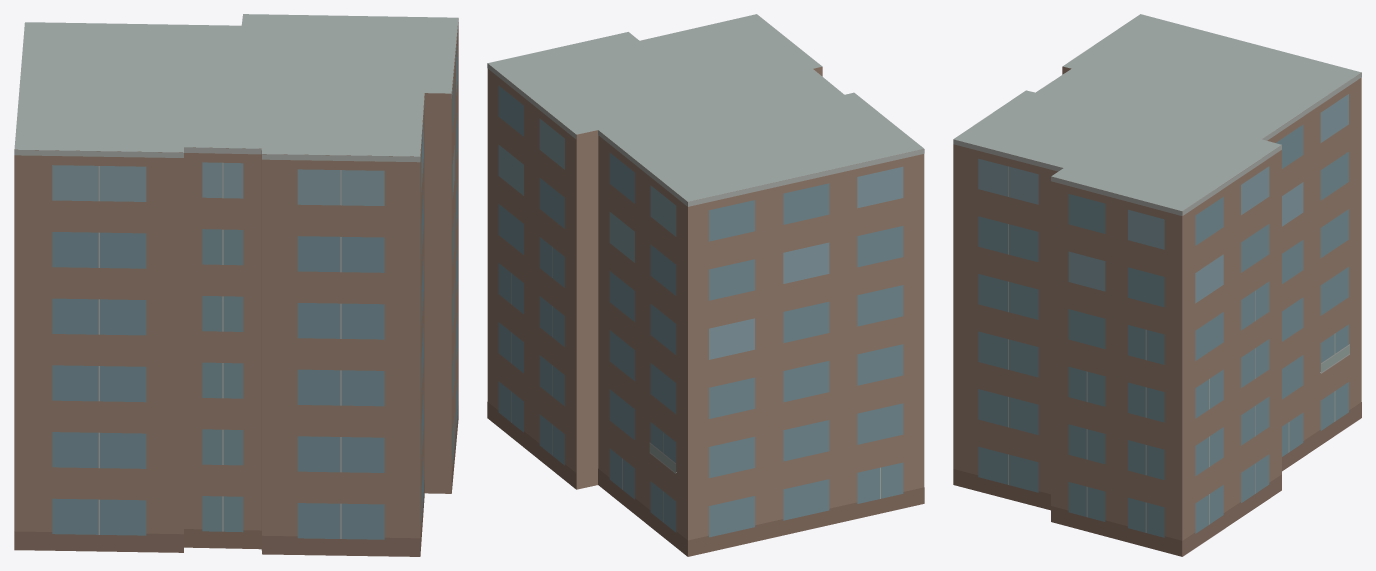
File: survey-upis-32985790.glb
3 views of the same model, side by side, from view 1: azimuth 30°, elevation 25°; view 2: azimuth 150°, elevation 25°; view 3: azimuth 270°, elevation 25° (orthographic). The views are drawn at different scales.
Parts seen in each view (by area): view 1: survey-upis-32985790.tmp; view 2: survey-upis-32985790.tmp; view 3: survey-upis-32985790.tmp.
Part boxes in pixels (x1,y1,x2,y2): survey-upis-32985790.tmp: (14, 14, 458, 556); survey-upis-32985790.tmp: (487, 14, 924, 556); survey-upis-32985790.tmp: (953, 14, 1361, 556).
Bounding box in the file's own units: 21.19 × 17.3 × 18.54.
